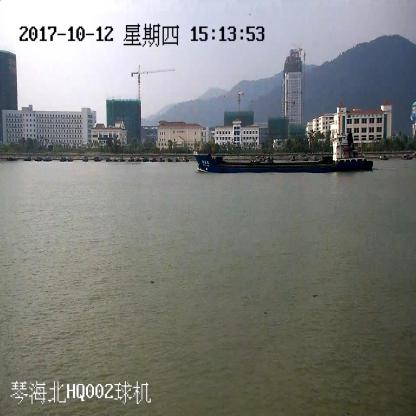Bulk Carrier: (194, 121, 373, 173)
